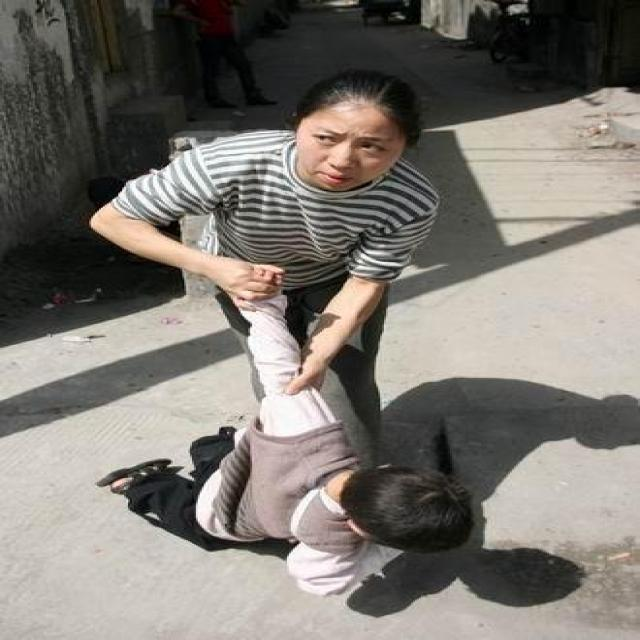fall: (84, 265, 616, 623)
